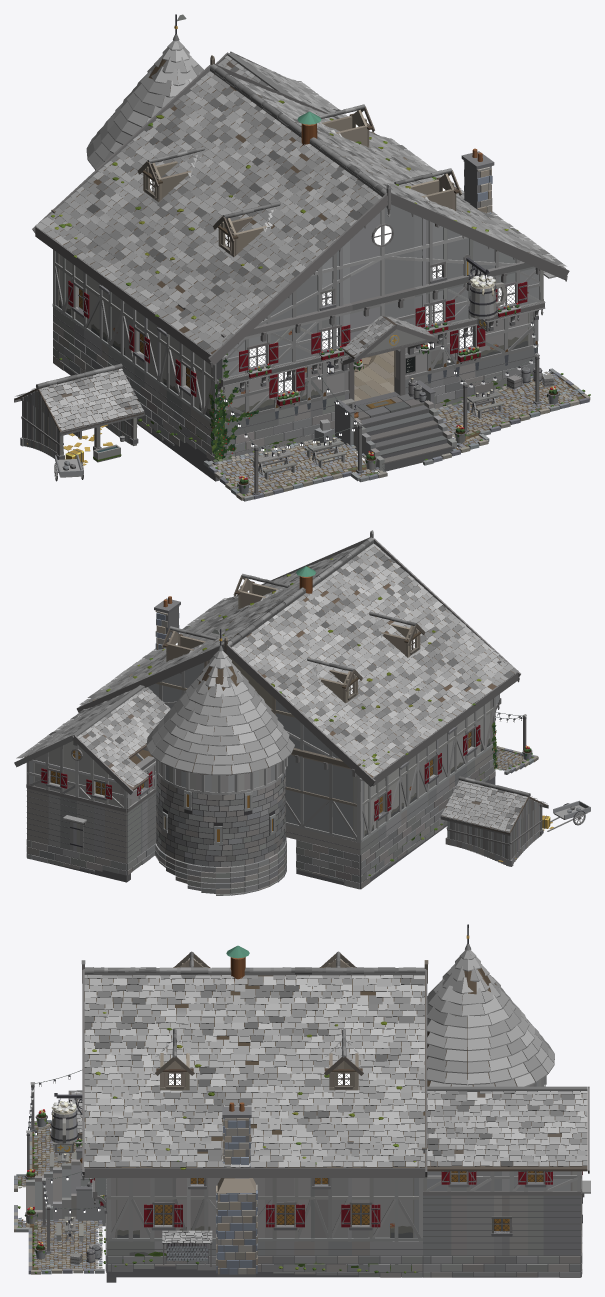
Rendered from mirefen_tavern_source.glb.
The picture shows the model from 3 angles, top to bottom: view 1: azimuth 30°, elevation 25°; view 2: azimuth 150°, elevation 25°; view 3: azimuth 270°, elevation 25°; orthographic projection. The views are drawn at different scales.
Visible parts, largest first — view 1: HallRoof, TavernGrounds, TavernFrame, HallWallFrontLeft, HallWallFrontRight, HallWallLeft, TavernTrim, HallWallFront, TowerRoof, HallPorch, TavernClutter, WingRoof (+2 smaller); view 2: HallRoof, TavernFrame, TowerWall, TowerRoof, HallWallBack, WingWallBack, HallWallLeft, TavernGrounds, WingRoof, WingWallWest, HallWallRight, TavernClutter (+1 smaller); view 3: HallRoof, HallWallRight, WingRoof, TavernFrame, WingWallEast, TowerRoof, TavernGrounds, TavernTrim, HallPorch, TavernClutter, HallWallFrontRight.
Boxes of the visible parts, box(x1,y1,x2,y2) form: HallRoof: box(32, 55, 569, 365); TavernGrounds: box(14, 315, 590, 501); TavernFrame: box(53, 111, 535, 481); HallWallFrontLeft: box(211, 240, 352, 456); HallWallFrontRight: box(405, 214, 545, 404); HallWallLeft: box(52, 216, 224, 455); TavernTrim: box(55, 208, 582, 496); HallWallFront: box(344, 204, 416, 405); TowerRoof: box(86, 14, 203, 169); HallPorch: box(341, 254, 506, 370); TavernClutter: box(27, 100, 590, 495); WingRoof: box(215, 51, 347, 118); HallRoof: box(76, 530, 520, 786); TavernFrame: box(26, 566, 495, 895); TowerWall: box(155, 757, 287, 866); TowerRoof: box(146, 629, 294, 775); HallWallBack: box(92, 655, 364, 854); WingWallBack: box(26, 741, 131, 863); HallWallLeft: box(353, 670, 495, 881); TavernGrounds: box(440, 712, 590, 866); WingRoof: box(14, 685, 170, 794); WingWallWest: box(119, 756, 156, 863); HallWallRight: box(138, 596, 180, 671); TavernClutter: box(89, 558, 580, 875); HallRoof: box(81, 951, 428, 1177); HallWallRight: box(107, 1102, 422, 1276); WingRoof: box(427, 1086, 589, 1173); TavernFrame: box(26, 945, 582, 1282); WingWallEast: box(423, 1154, 580, 1255); TowerRoof: box(427, 924, 554, 1086); TavernGrounds: box(14, 1070, 212, 1274); TavernTrim: box(18, 1085, 104, 1269); HallPorch: box(50, 1090, 82, 1152); TavernClutter: box(17, 1012, 416, 1273); HallWallFrontRight: box(91, 1147, 117, 1254).
Bounding box in the file's own units: 47.63 × 28.27 × 51.17.
